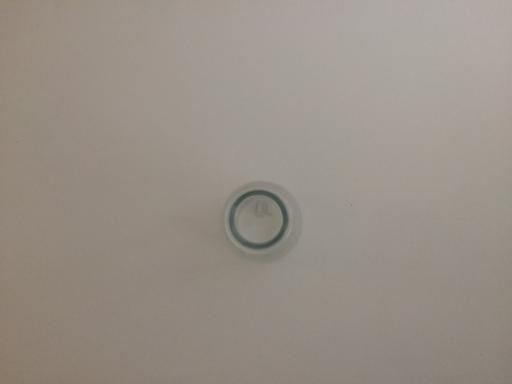botolkaca: (220, 182, 304, 261)
